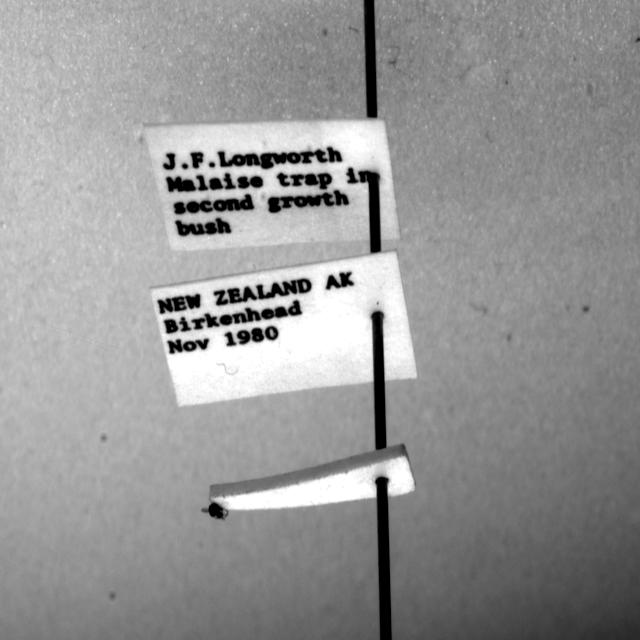typed_label: (151, 251, 416, 407), (145, 118, 400, 249)
